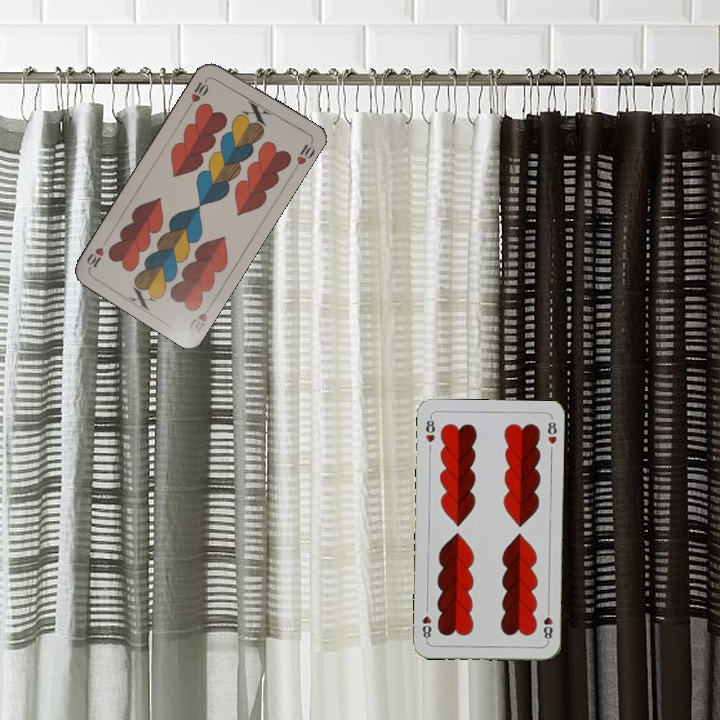H10: (185, 299, 215, 336), (184, 74, 211, 110)
H8: (540, 604, 555, 644), (422, 414, 438, 445)
